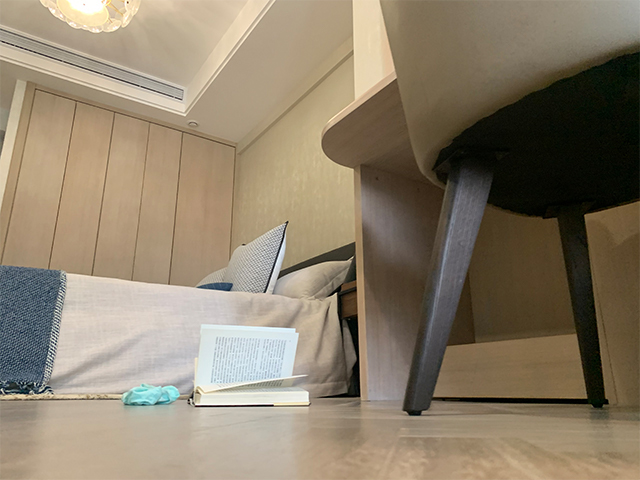DT: (1, 392, 122, 403)
bed: (1, 218, 357, 403)
book: (185, 321, 313, 409)
cabinet: (337, 278, 361, 395)
socks: (119, 381, 179, 407)
stool: (378, 1, 640, 419)
